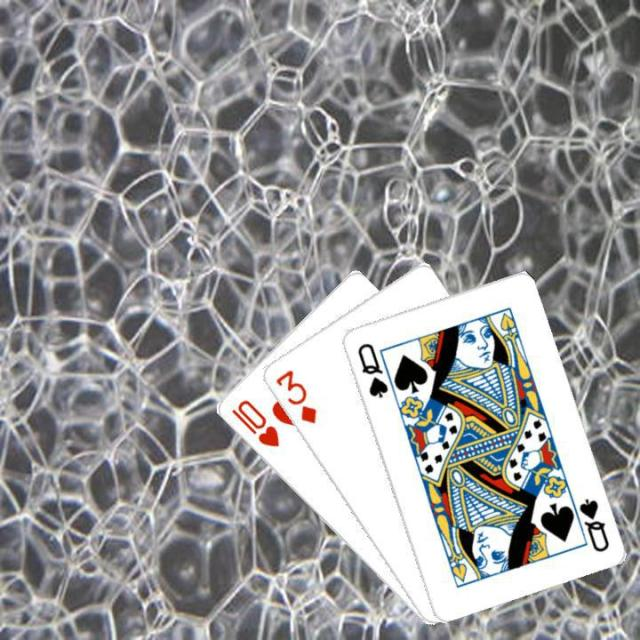10H: (227, 395, 281, 449)
3D: (270, 365, 318, 426)
QS: (574, 494, 611, 554), (353, 339, 389, 400)
